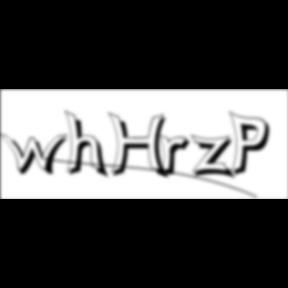H: (108, 112, 174, 182)
P: (230, 110, 276, 180)
h: (66, 108, 112, 182)
r: (159, 134, 197, 180)
w: (0, 132, 76, 178)
z: (190, 134, 240, 182)
